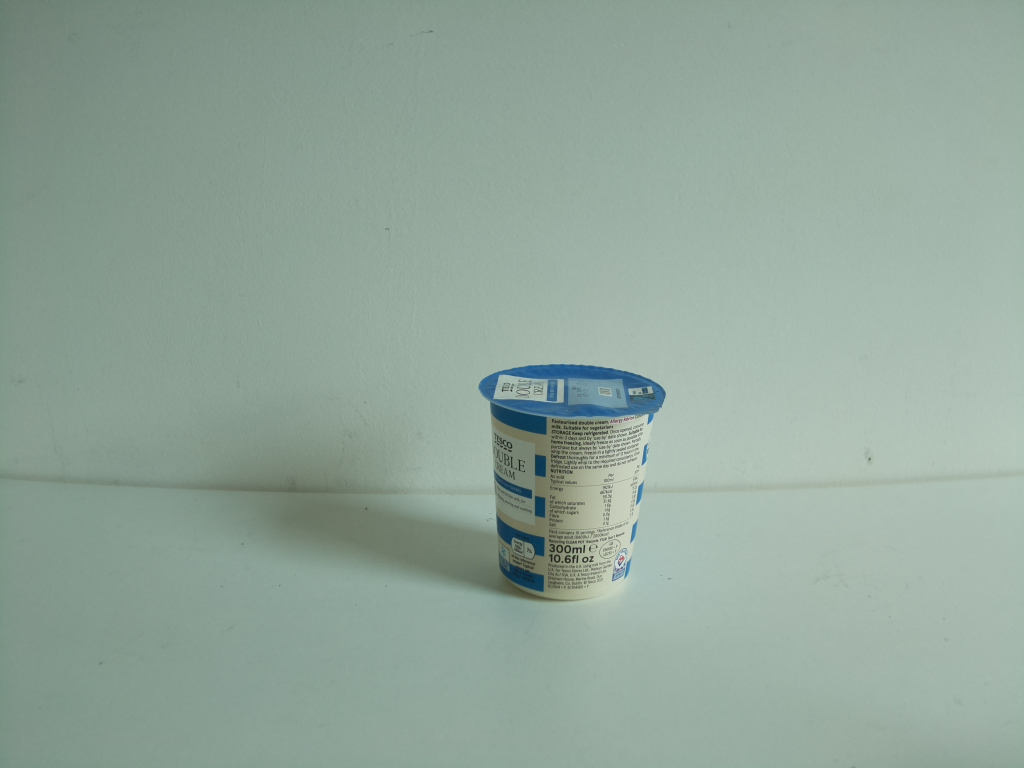cream: (475, 361, 666, 605)
